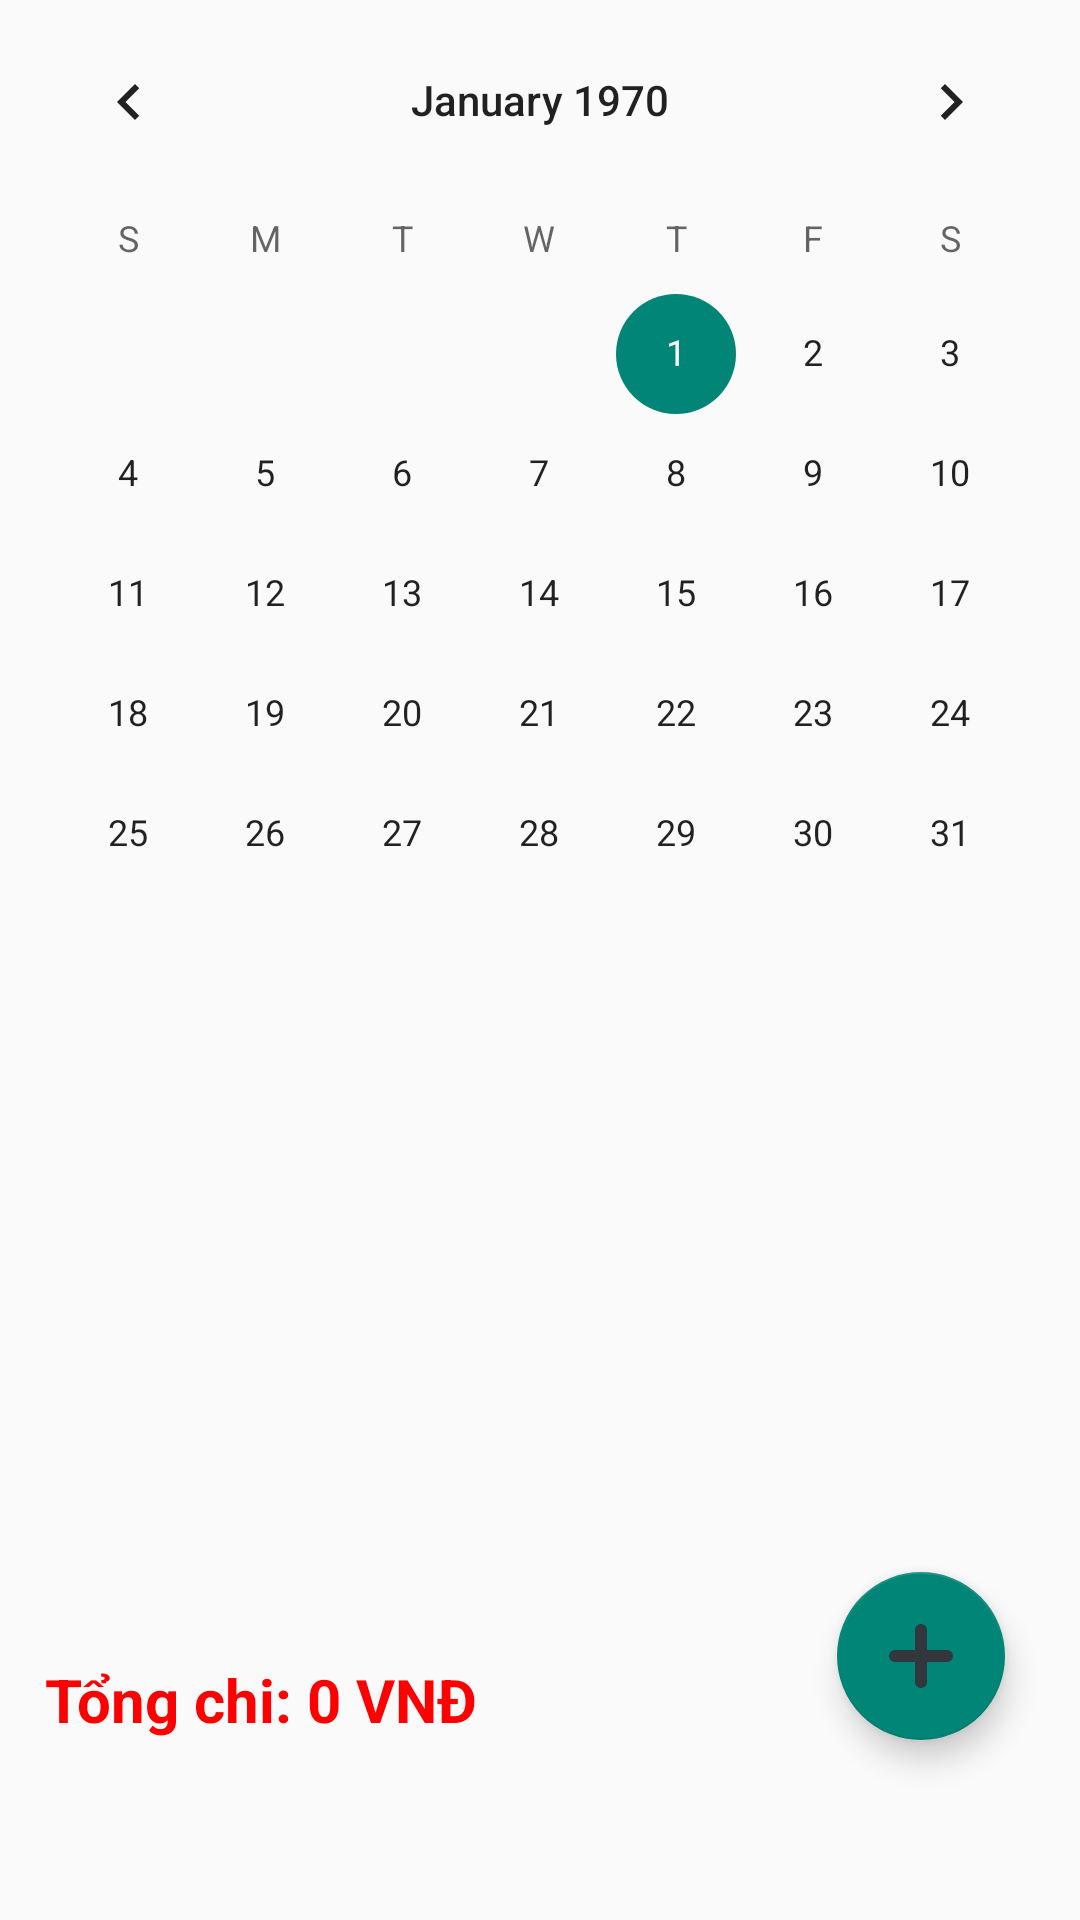

Where to tap for icons on this 1080 × 1920 app screen, as (x,y):
plus: (921,1656)
